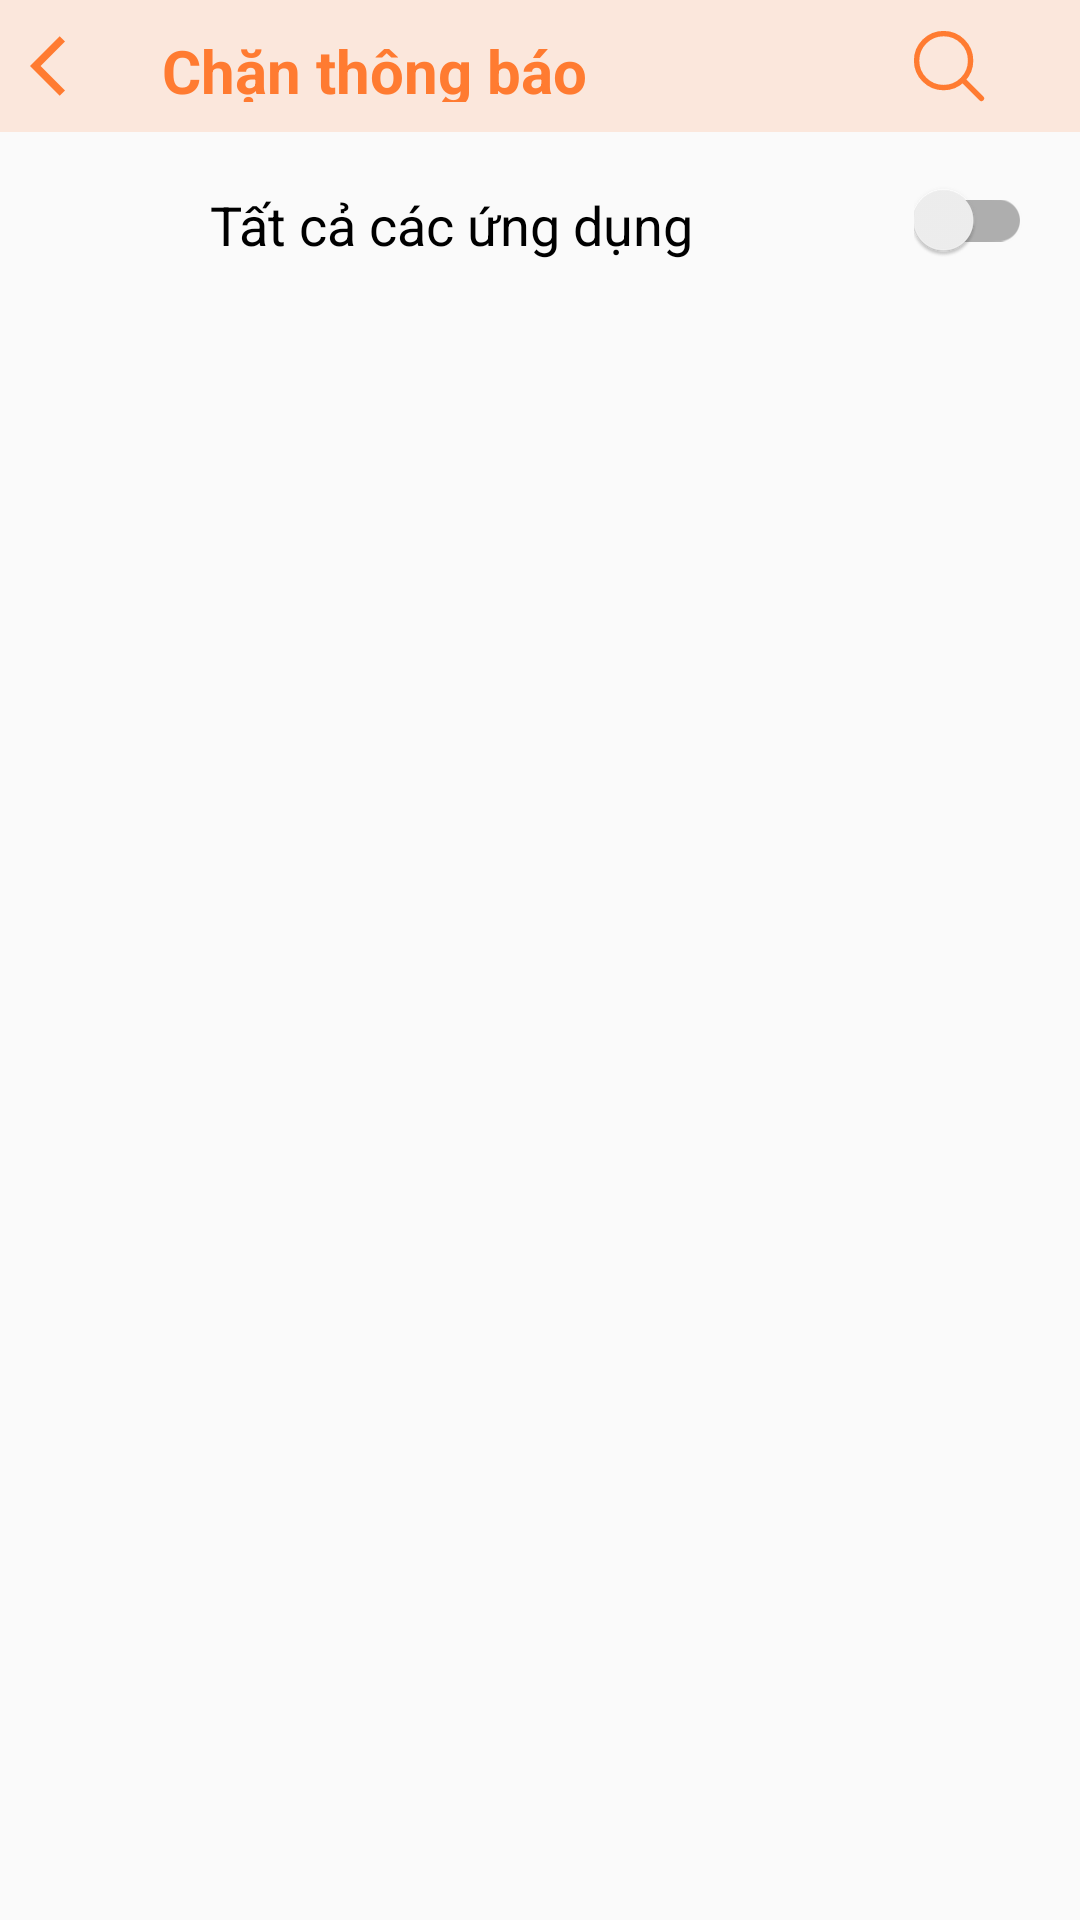

Icons on this 1080 × 1920 Android screen, each with the point to tap as point (x, y):
back: point (47, 66)
search: point (949, 66)
